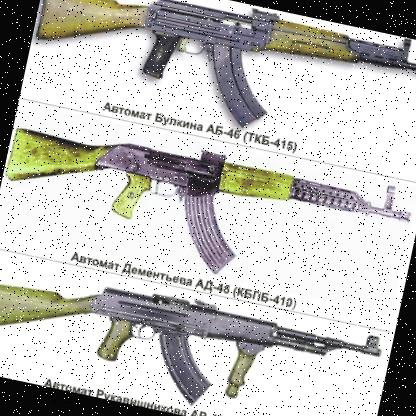rifle: (0, 101, 415, 306), (23, 0, 416, 165), (0, 251, 383, 416)
